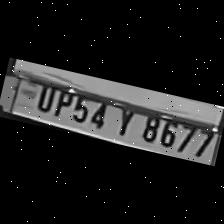4: (86, 92, 114, 132)
5: (67, 88, 92, 125)
6: (155, 111, 182, 150)
7: (187, 122, 216, 162), (173, 118, 199, 157)
8: (136, 106, 163, 146)
P: (50, 83, 74, 120)
U: (32, 78, 58, 114)
Y: (108, 98, 141, 140)
